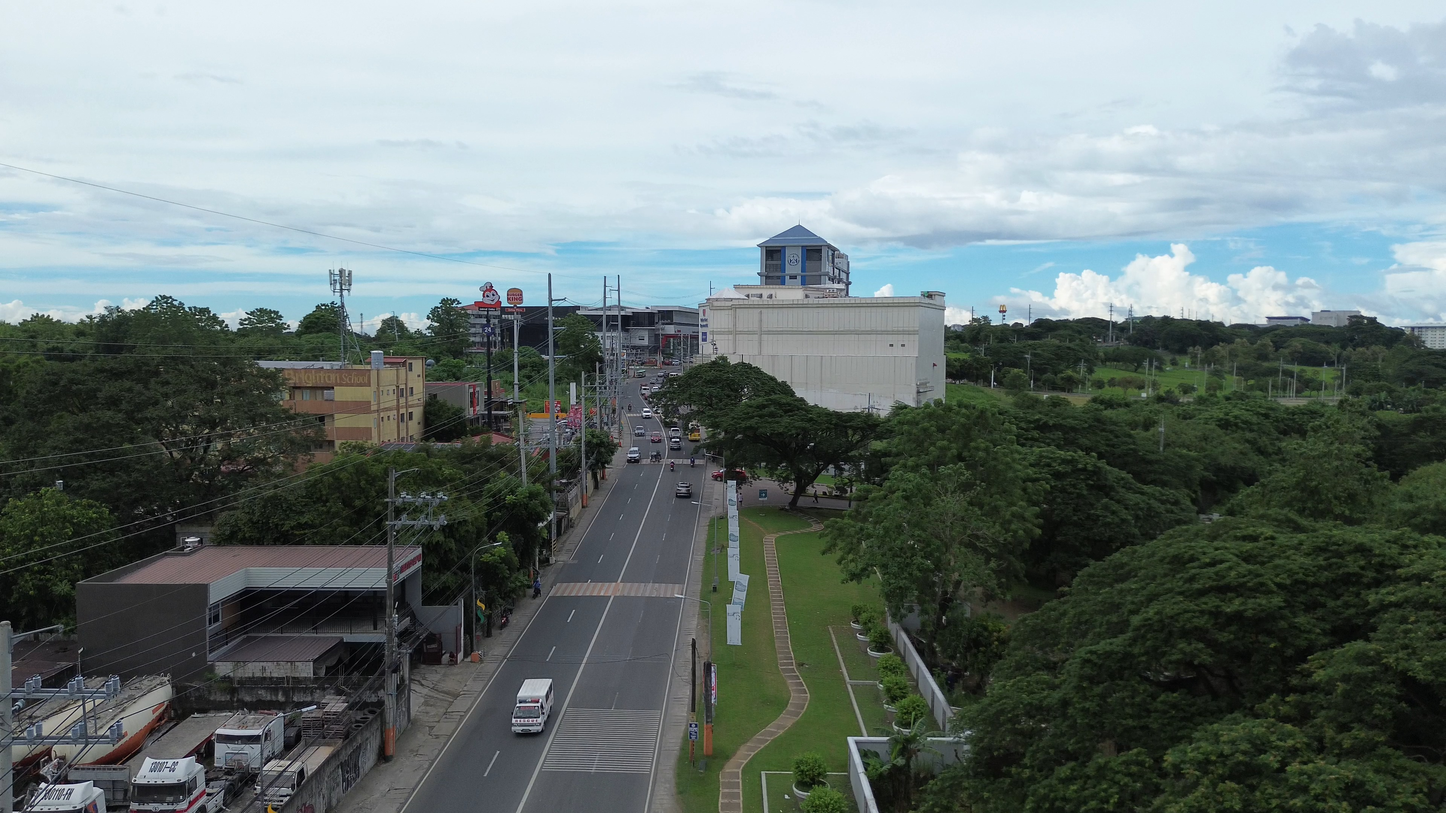car: (688, 429, 700, 442), (633, 425, 646, 436)
vehicle: (255, 744, 334, 808), (129, 757, 206, 813), (214, 713, 285, 773), (23, 782, 106, 813), (512, 679, 553, 733), (728, 468, 748, 482), (675, 483, 692, 498), (626, 446, 640, 463), (688, 428, 701, 442), (669, 437, 682, 450), (668, 426, 681, 437), (649, 431, 662, 442), (641, 407, 652, 418)
